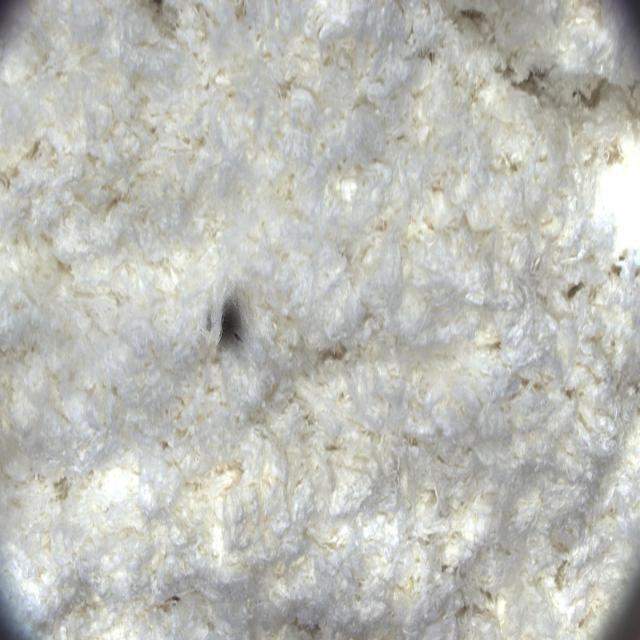dust: (191, 270, 279, 377)
